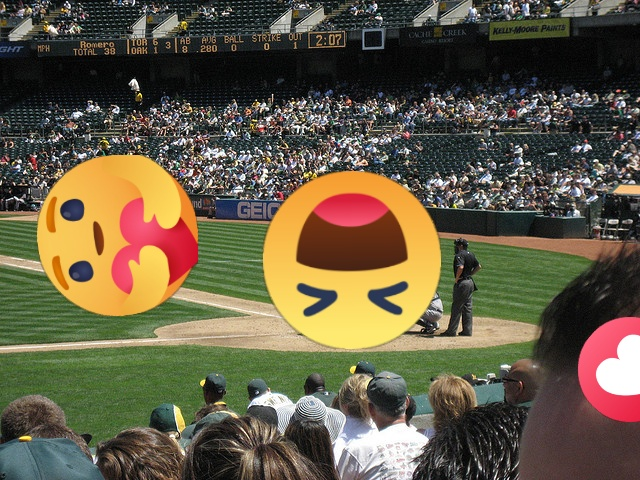care: (37, 155, 198, 316)
haha: (263, 171, 441, 349)
love: (578, 317, 640, 422)
